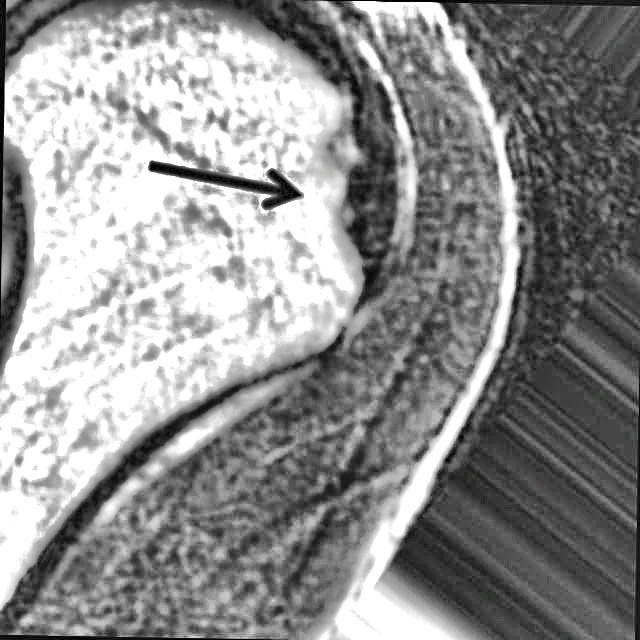Comminuted: (306, 83, 414, 301)
